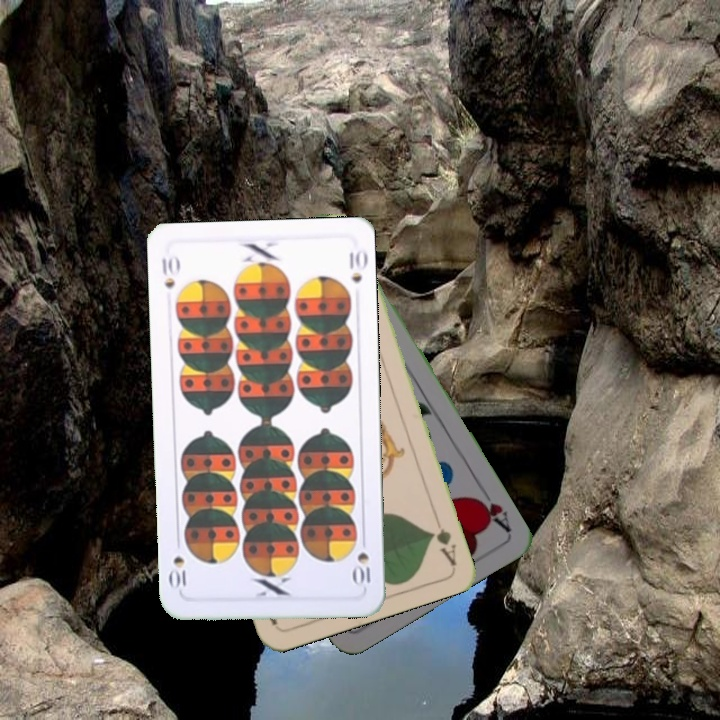GA: (427, 524, 459, 568)
HA: (469, 481, 514, 535)
S10: (350, 532, 374, 591), (158, 252, 182, 291)
